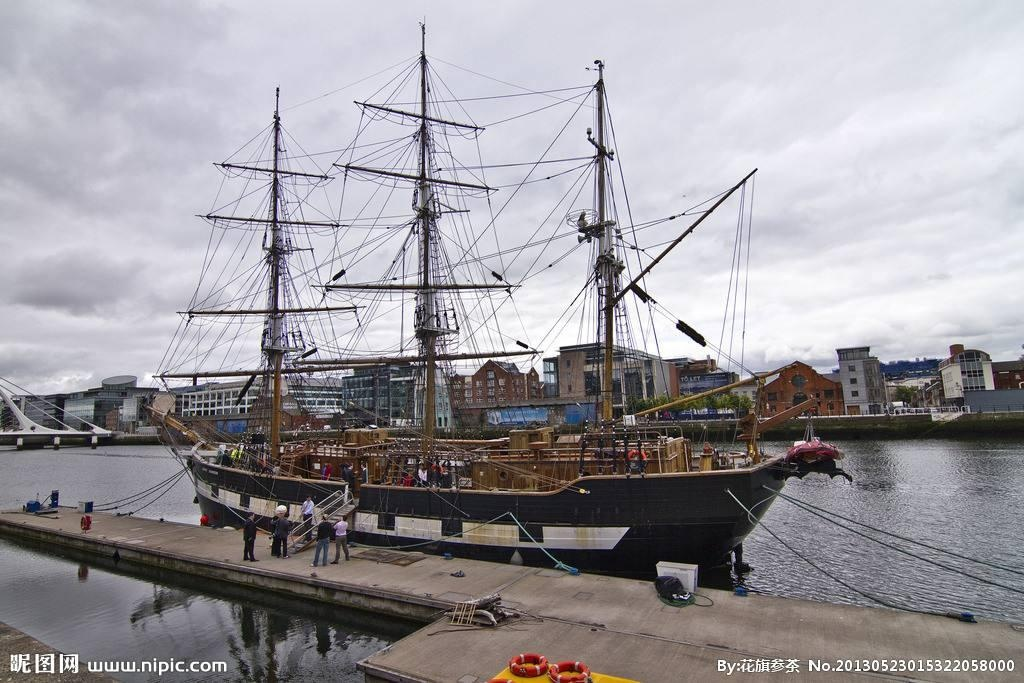fanchuan: (134, 16, 861, 546)
